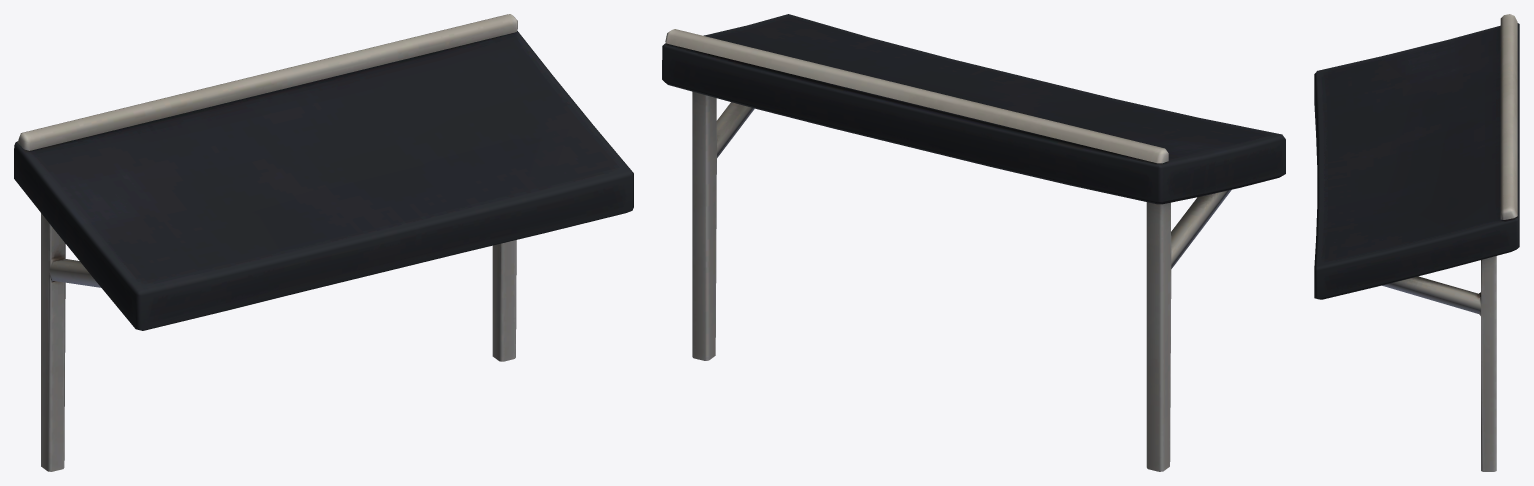
File: Market_Stall_Blank.fbx
The picture shows the model from 3 angles, left to right: view 1: azimuth 30°, elevation 25°; view 2: azimuth 150°, elevation 25°; view 3: azimuth 270°, elevation 25°; orthographic projection. The views are drawn at different scales.
Parts seen in each view (by area): view 1: marketstall_blank_01 (6); view 2: marketstall_blank_01 (6); view 3: marketstall_blank_01 (6).
Boxes of the visible parts, x1,y1,x2,y2 form: marketstall_blank_01 (6): (14, 14, 633, 471); marketstall_blank_01 (6): (662, 14, 1285, 471); marketstall_blank_01 (6): (1314, 14, 1519, 471).
Bounding box in the file's own units: 330 × 208 × 144.
